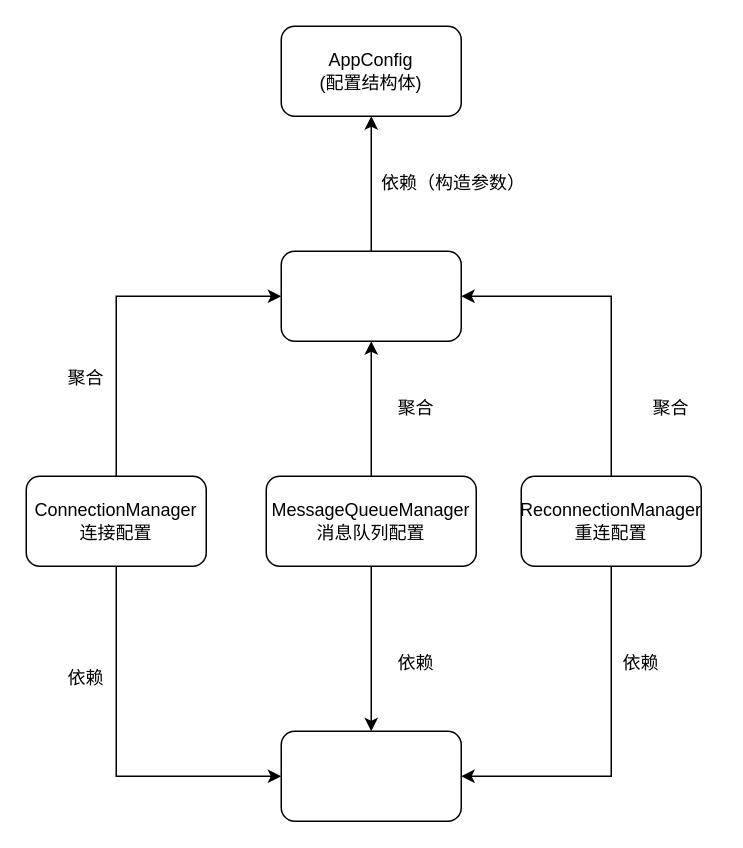
Some shapes in this 743 by 848 pixel diagram are drawn without their labels. Here are the shapes that lost their labels. From the top down, the centre of each, then its label:
At [370,295]: "NetworkManager (主控键)".
At [370,775]: "CoreMessage 消息结构体".
